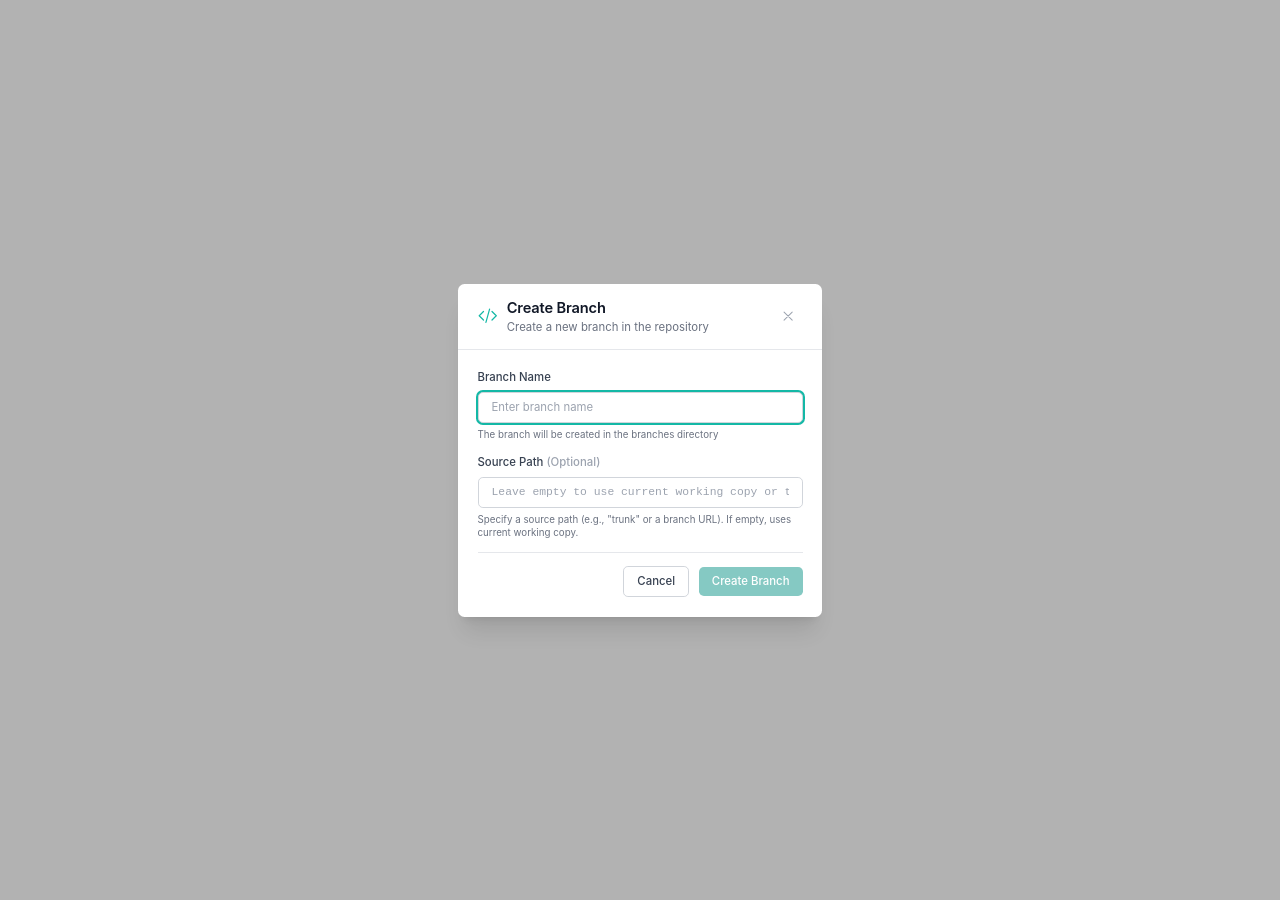
Test: CreateBranchTagModal › shows loading state during creation
In the field with placeholder "Enter branch name": [640, 407] box [478,392,802,423], type "feature-branch"
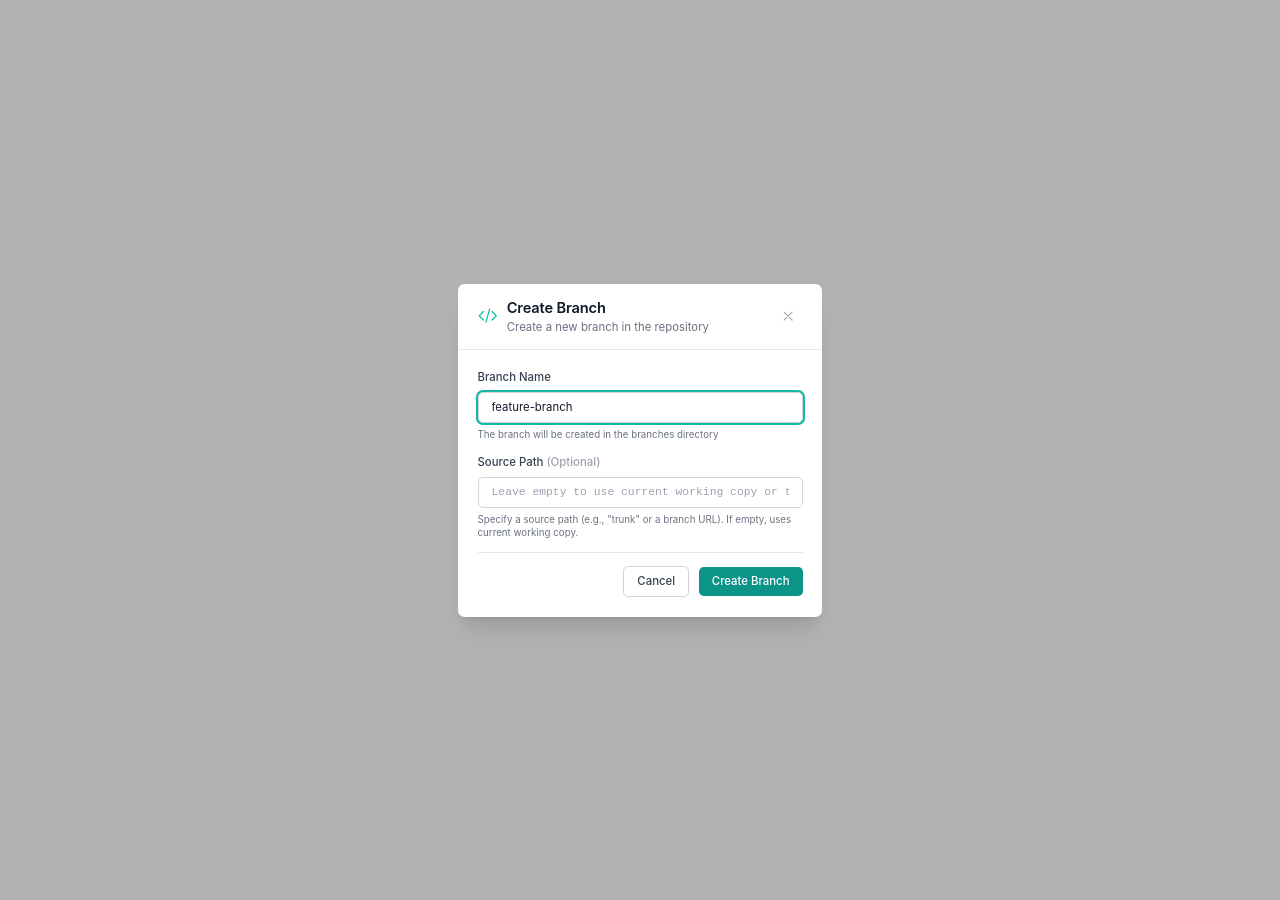
Click the button "Create Branch": [751, 581] box [699,567,802,596]
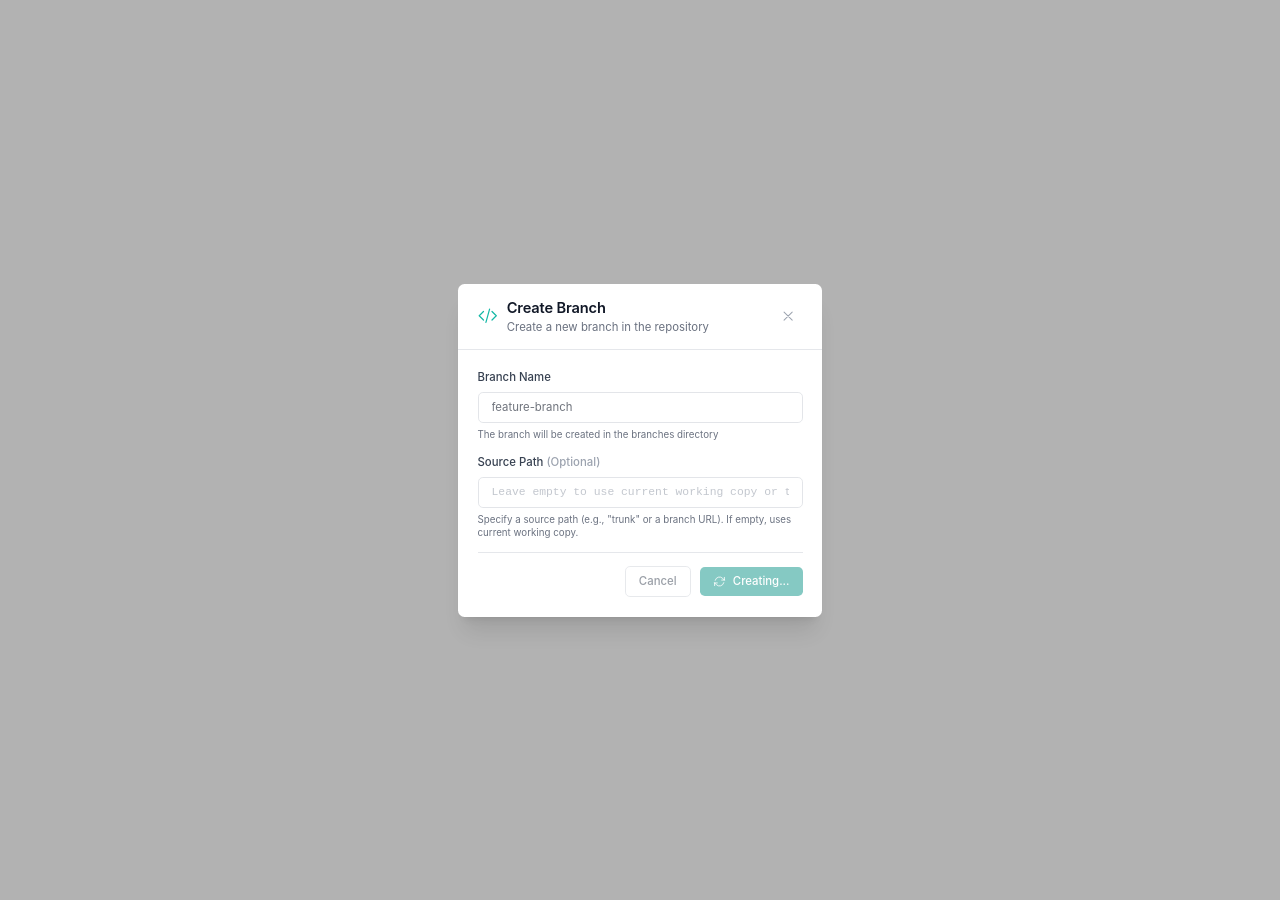
Check: the button "Creating..." is disabled, box [700,567,802,596]
